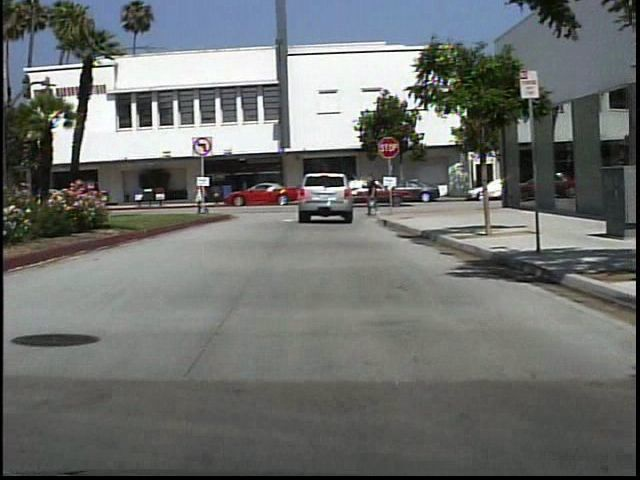person: (187, 176, 217, 218), (364, 174, 388, 218), (238, 178, 254, 202)
